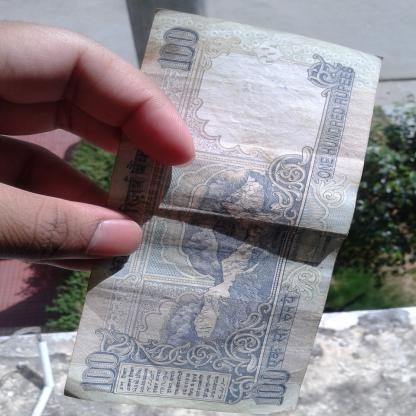Old100Back: (65, 6, 383, 416)
